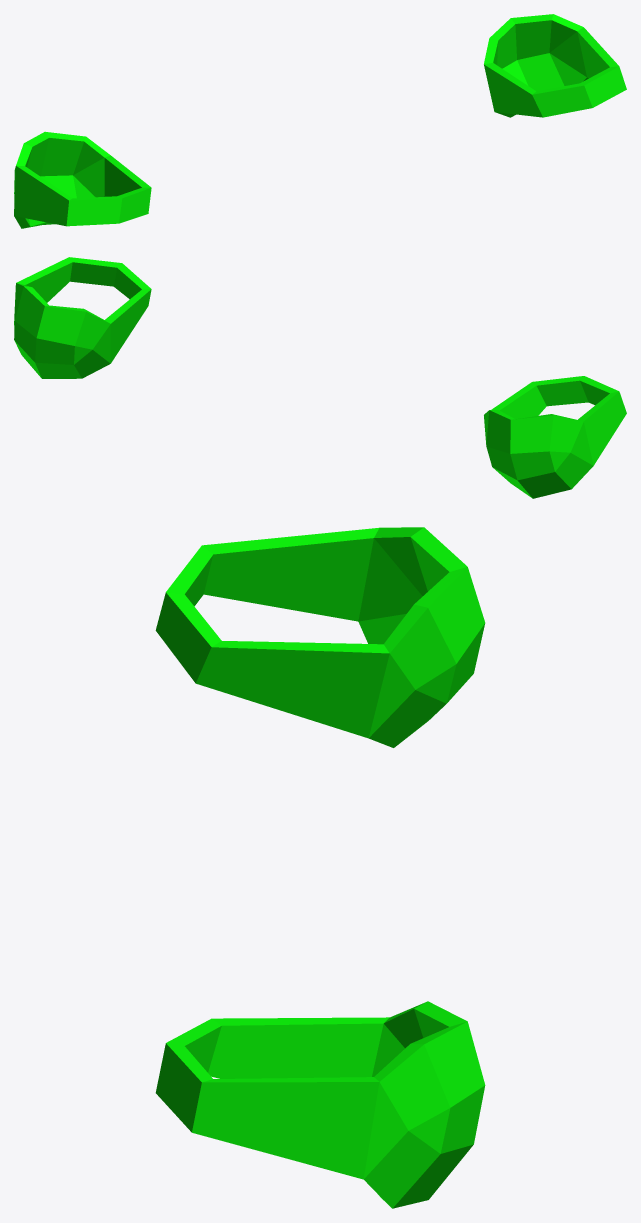
Rendered from SM_Armor_Arm_C_Hanging_Fantasy.fbx.
The picture shows the model from 3 angles, top to bottom: view 1: azimuth 30°, elevation 25°; view 2: azimuth 150°, elevation 25°; view 3: azimuth 270°, elevation 25°; orthographic projection. The views are drawn at different scales.
Visible parts, largest first — view 1: armor-arm-c-hanging-fantasy; view 2: armor-arm-c-hanging-fantasy; view 3: armor-arm-c-hanging-fantasy.
Part boxes in pixels (left/top/right/bottom): armor-arm-c-hanging-fantasy: left=14, top=14, right=626, bottom=228; armor-arm-c-hanging-fantasy: left=14, top=257, right=626, bottom=498; armor-arm-c-hanging-fantasy: left=155, top=527, right=485, bottom=1208.
Bounding box in the file's own units: 0.7009 × 0.1009 × 0.1726.
